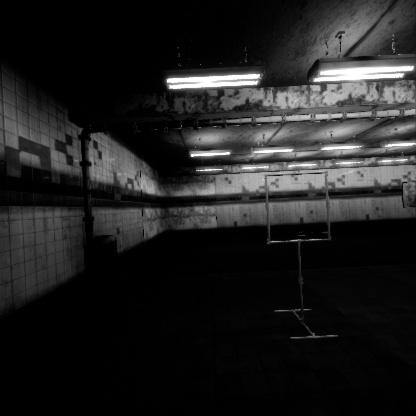gate: (264, 171, 336, 245)
